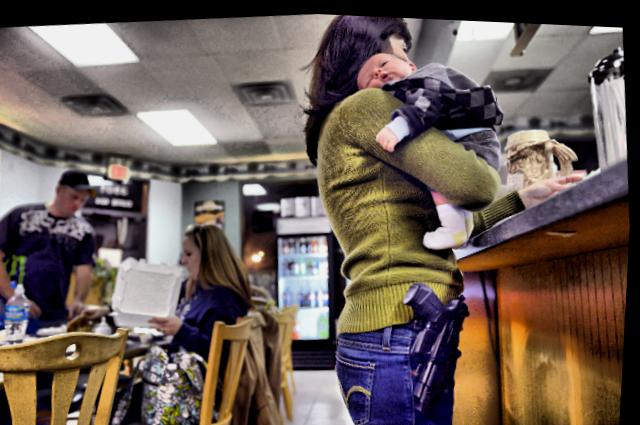pistol: (395, 270, 483, 412)
